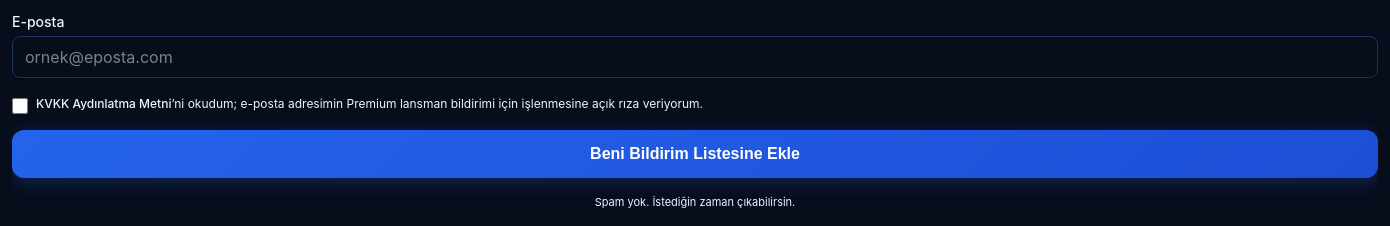
Test: WaitlistForm › basarili submit: tesekkur mesaji + PremiumUpsell event
Type "user@example.com" into the field labelled "E-posta".
click(695, 57); type("user@example.com")  # box x1=12 y1=36 x2=1378 y2=78
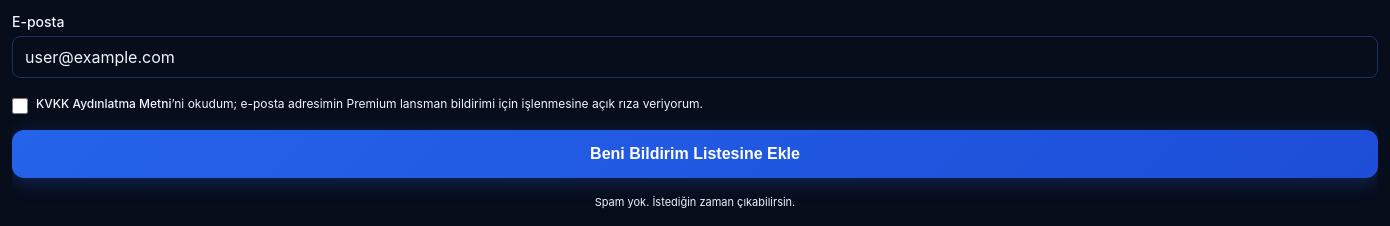
Click the checkbox labelled "KVKK".
click(20, 106)  # box x1=12 y1=98 x2=28 y2=114
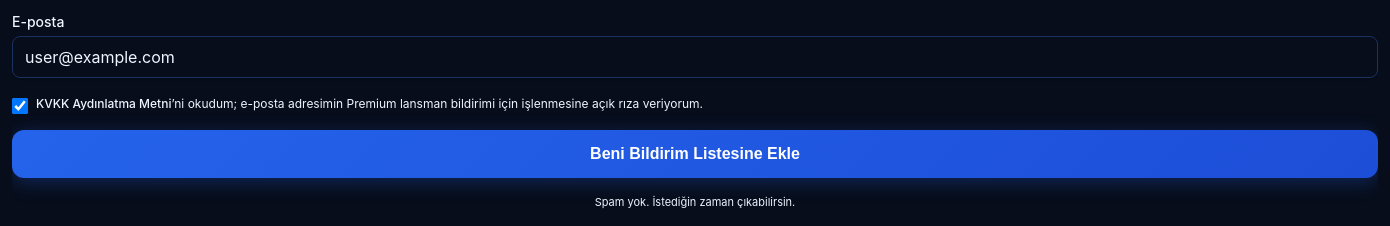
Click the button "Beni Bildirim Listesine Ekle".
click(695, 154)  # box x1=12 y1=130 x2=1378 y2=178
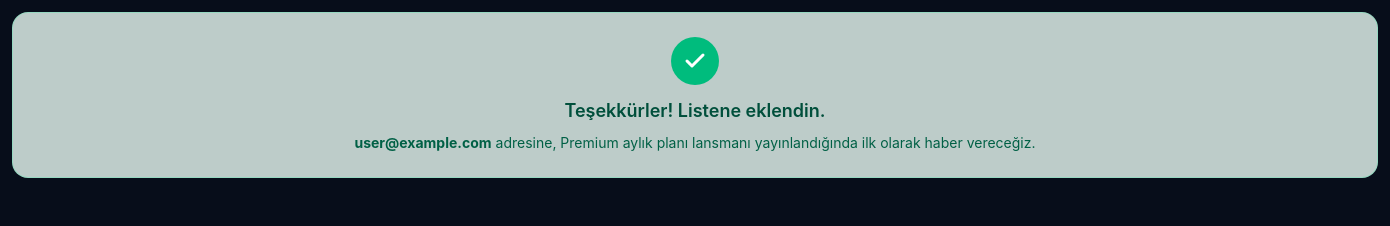
Check: the heading "Teşekkürler! Listene eklendin." is shown, box x1=564 y1=100 x2=826 y2=121
